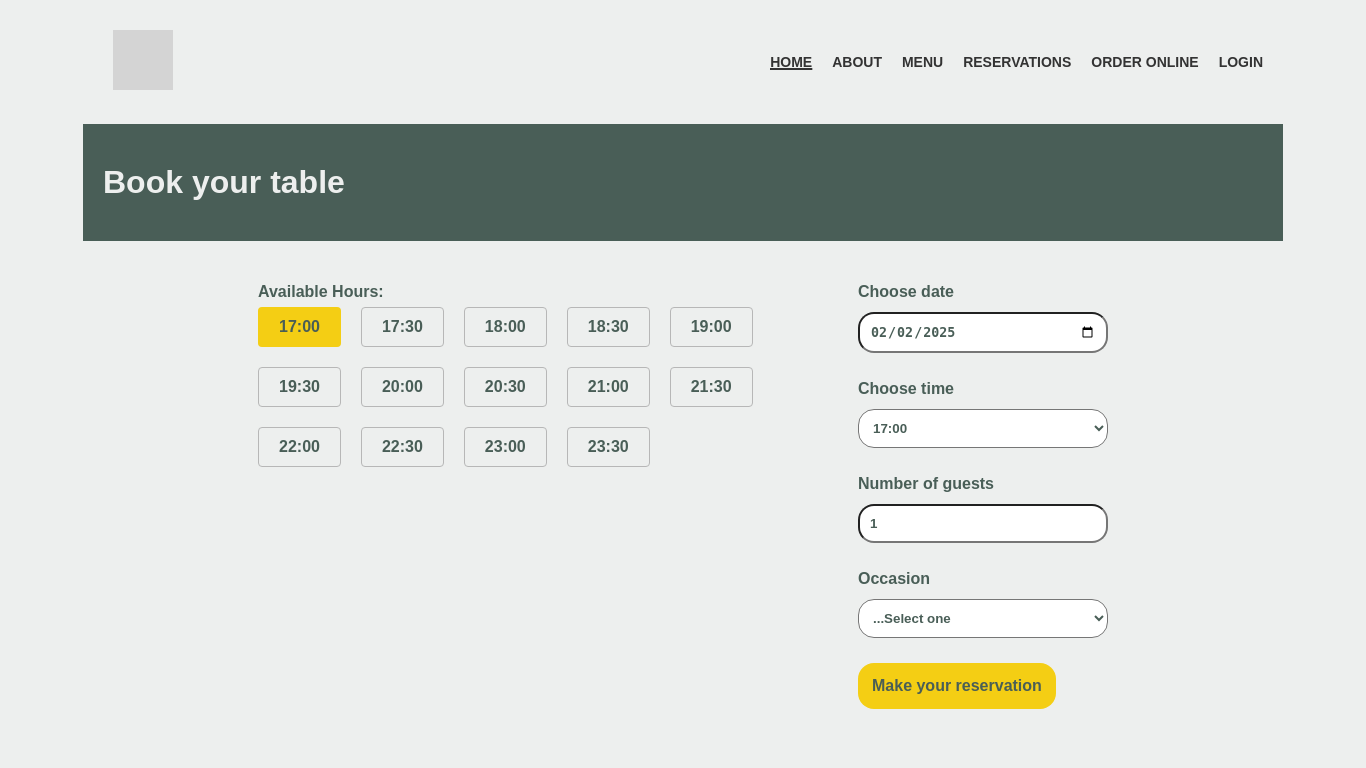
Booking Page › Booking form - error when more than 10 guests selected
Expected: the button "Make your reservation" is shown, [858,663,1056,709]
Type "11" into the number field labelled "Number of guests". click: (983,524)
box: [858,504,1108,543]
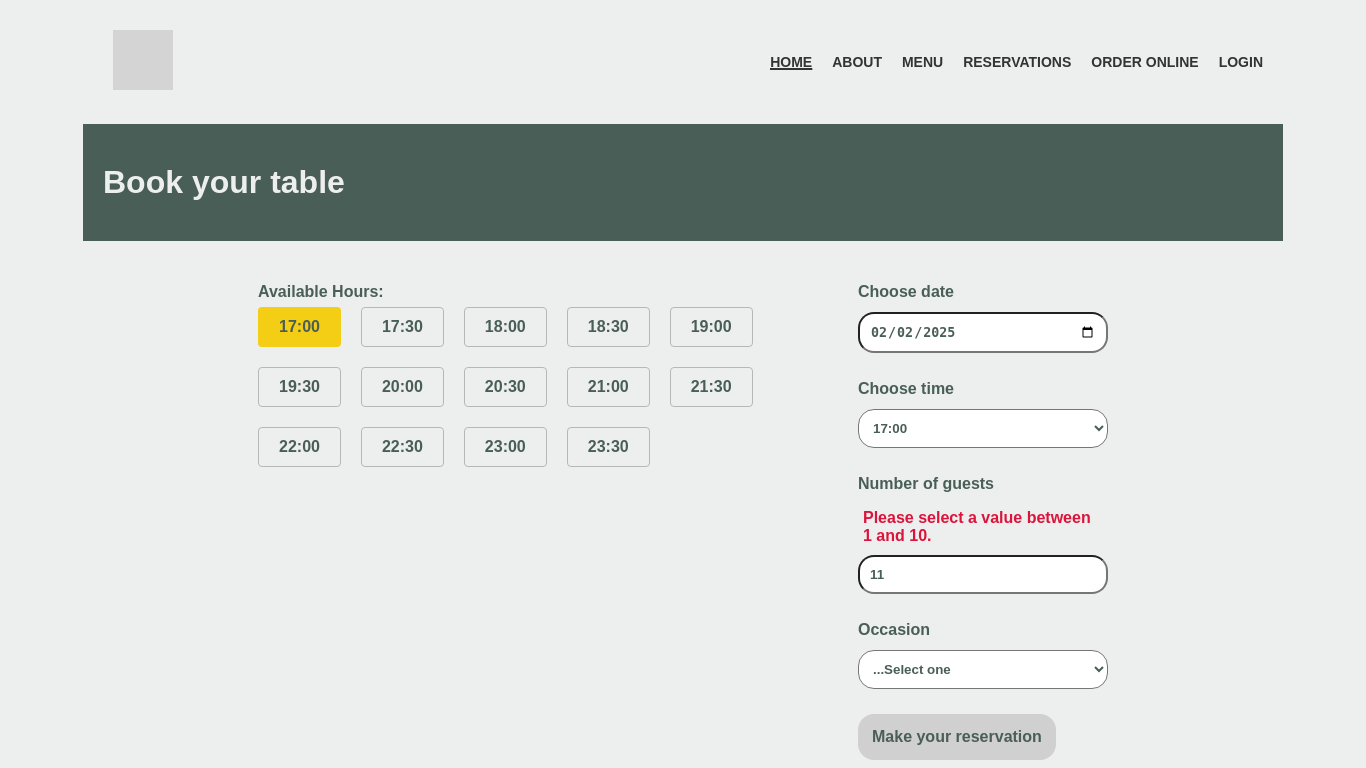
Expected: the text "Please select a value between 1 and 10." is shown, [858,504,1108,550]
Expected: the text with test id "error-guests" reads "Please select a value between 1 and 10.", [863,509,1091,544]
Expected: the button is disabled, [858,714,1056,760]
